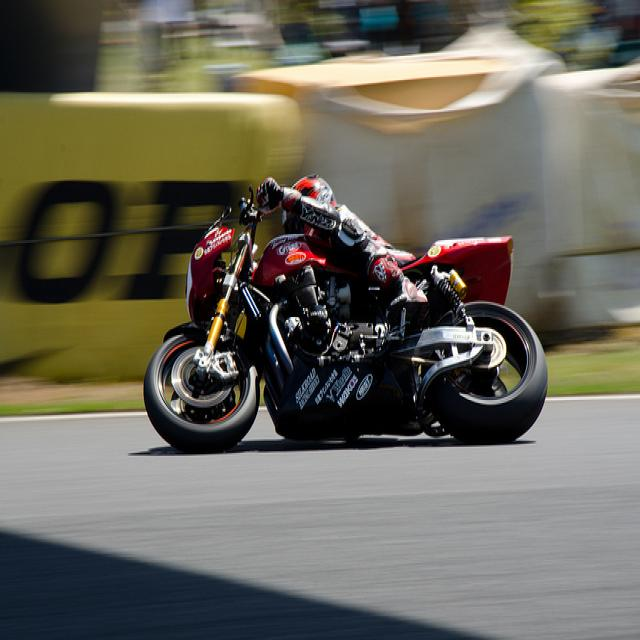motor: (144, 182, 549, 455)
